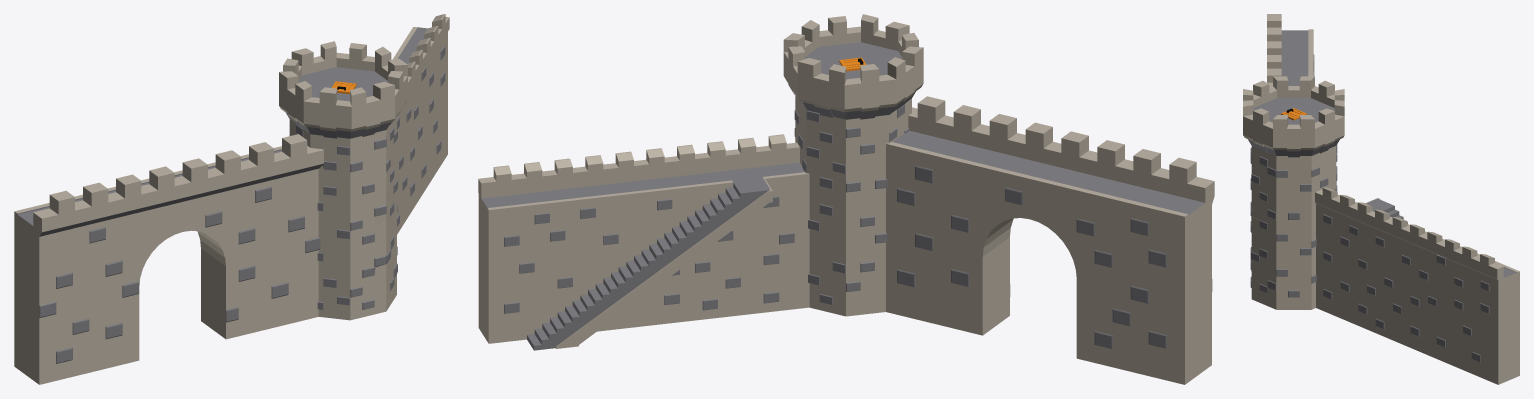
File: castleTower.fbx
The picture shows the model from 3 angles, left to right: view 1: azimuth 30°, elevation 25°; view 2: azimuth 150°, elevation 25°; view 3: azimuth 270°, elevation 25°; orthographic projection. The views are drawn at different scales.
Parts seen in each view (by area): view 1: Cube.008, Plane.003, Cube.003; view 2: Cube.008, Cube.003, Plane.003; view 3: Cube.003, Plane.003, Cube.008.
Part boxes in pixels (<box>): Cube.008: <box>14,134,323,384</box>; Plane.003: <box>279,41,407,320</box>; Cube.003: <box>392,14,449,234</box>; Cube.008: <box>886,96,1214,384</box>; Cube.003: <box>478,134,809,350</box>; Plane.003: <box>783,14,923,316</box>; Cube.003: <box>1315,187,1519,384</box>; Plane.003: <box>1243,76,1344,309</box>; Cube.008: <box>1267,14,1314,87</box>.
Size of the model in its own units: 1253 by 505 by 653.
